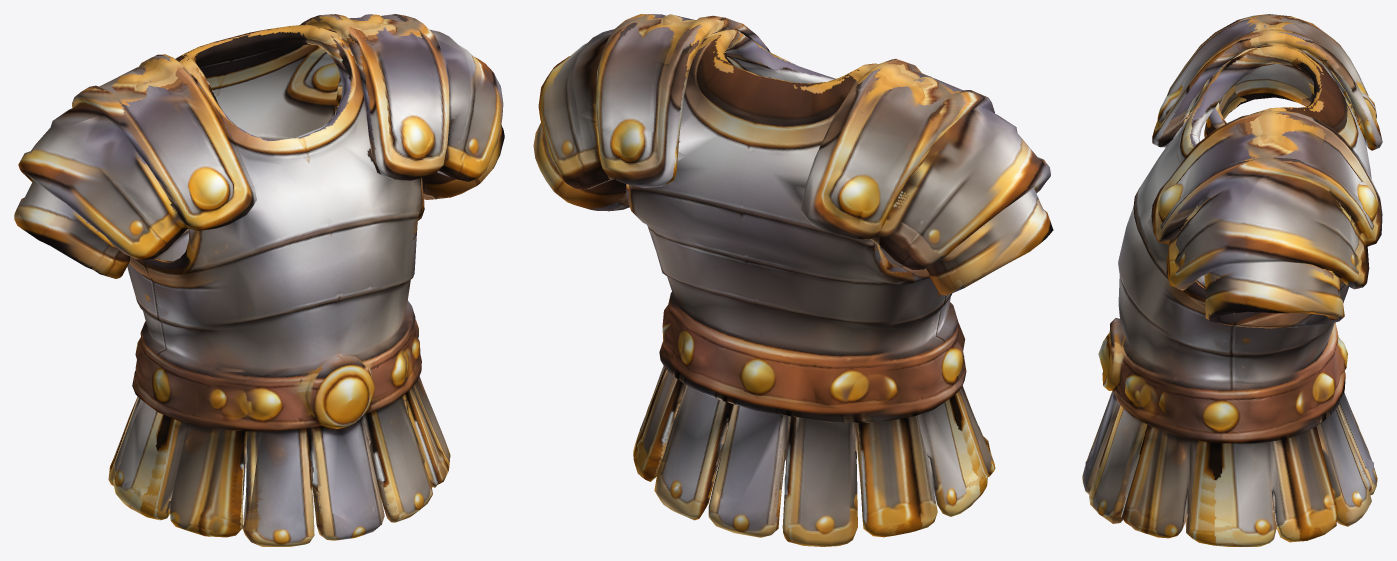
The model's file is armour_segmented.glb.
3 views of the same model, side by side, from view 1: azimuth 30°, elevation 25°; view 2: azimuth 150°, elevation 25°; view 3: azimuth 270°, elevation 25° (orthographic). The views are drawn at different scales.
Visible parts, largest first — view 1: geometry_0; view 2: geometry_0; view 3: geometry_0.
Boxes of the visible parts, left/top/right/bottom form: geometry_0: left=14, top=14, right=504, bottom=546; geometry_0: left=533, top=14, right=1053, bottom=546; geometry_0: left=1082, top=14, right=1382, bottom=546.
Bounding box in the file's own units: 1.98 × 1.72 × 1.13.
1 material, 1 textured.
